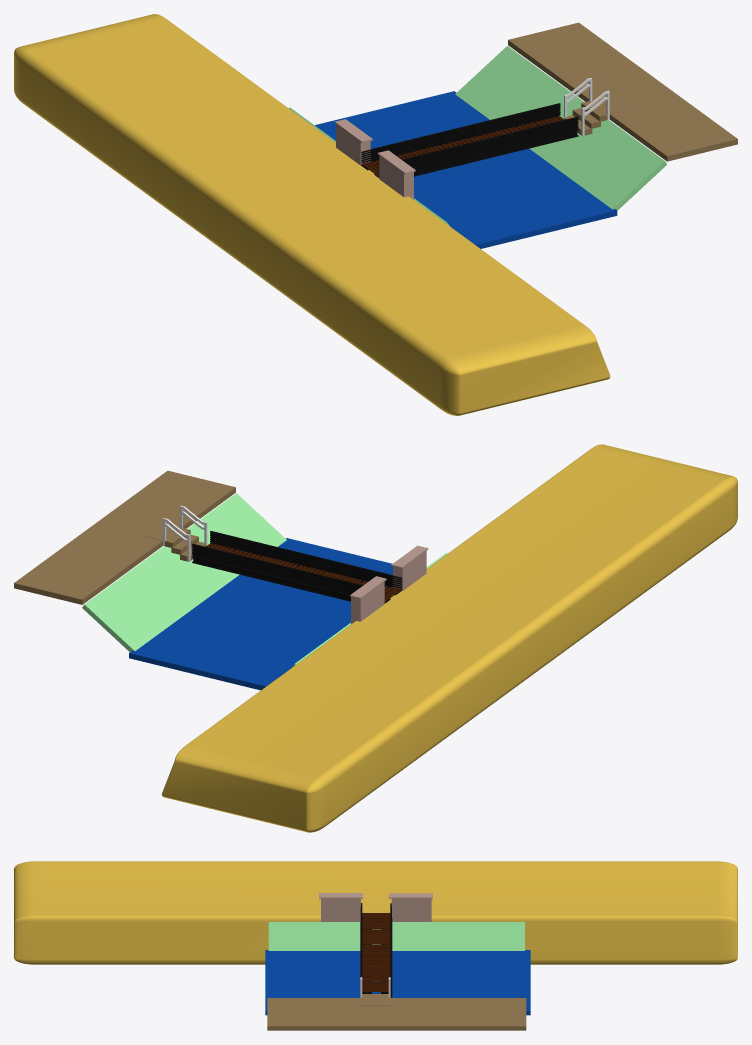
File: pont.fbx
3 views of the same model, one above another, from view 1: azimuth 30°, elevation 25°; view 2: azimuth 150°, elevation 25°; view 3: azimuth 270°, elevation 25° (orthographic). The views are drawn at different scales.
Visible parts, largest first — view 1: pCube22, Cube.021, Cube.022, Cube.023, Cube.011, Cube.007, Cube.006; view 2: pCube22, Cube.021, Cube.022, Cube.023, Cube.006, Cube.007, Cube.014; view 3: pCube22, Cube.021, Cube.022, Cube.024, Cube.006, Cube.007, wooden fence.001, wooden fence, wooden fence.002, Cube.019.
Boxes of the visible parts, x1,y1,x2,y2 form: pCube22: (14, 14, 610, 415); Cube.021: (315, 91, 617, 248); Cube.022: (508, 22, 737, 161); Cube.023: (455, 46, 667, 210); Cube.011: (374, 131, 577, 177); Cube.007: (379, 156, 413, 199); Cube.006: (336, 124, 370, 165); pCube22: (162, 444, 737, 832); Cube.021: (129, 538, 392, 690); Cube.022: (14, 470, 235, 604); Cube.023: (82, 493, 286, 651); Cube.006: (351, 582, 384, 624); Cube.007: (393, 551, 426, 590); Cube.014: (193, 558, 350, 600); pCube22: (14, 861, 737, 964); Cube.021: (265, 950, 530, 1015); Cube.022: (267, 998, 526, 1030); Cube.024: (268, 922, 524, 950); Cube.006: (391, 898, 431, 921); Cube.007: (321, 898, 360, 921); wooden fence.001: (362, 939, 390, 965); wooden fence: (362, 913, 390, 939); wooden fence.002: (362, 965, 391, 992); Cube.019: (360, 994, 390, 1005).
Size of the model in its own units: 2108 by 391 by 3684.
